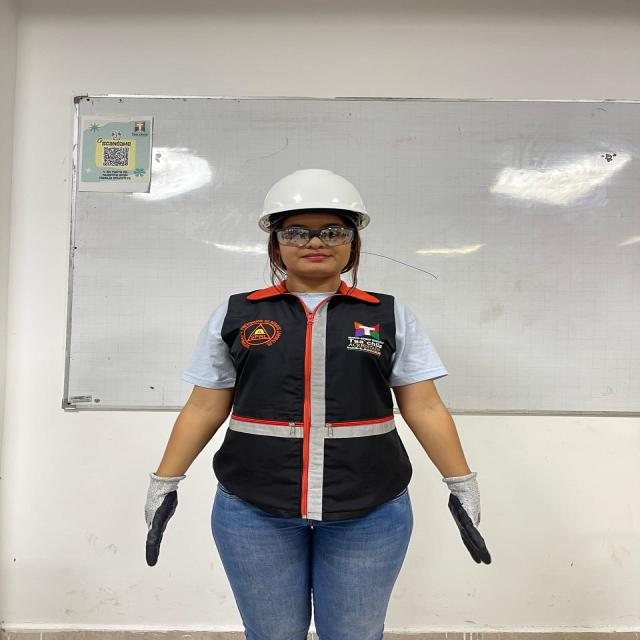gloves: (438, 472, 495, 565), (144, 473, 187, 565)
helmet: (258, 168, 367, 219)
protective_glasses: (273, 226, 357, 248)
